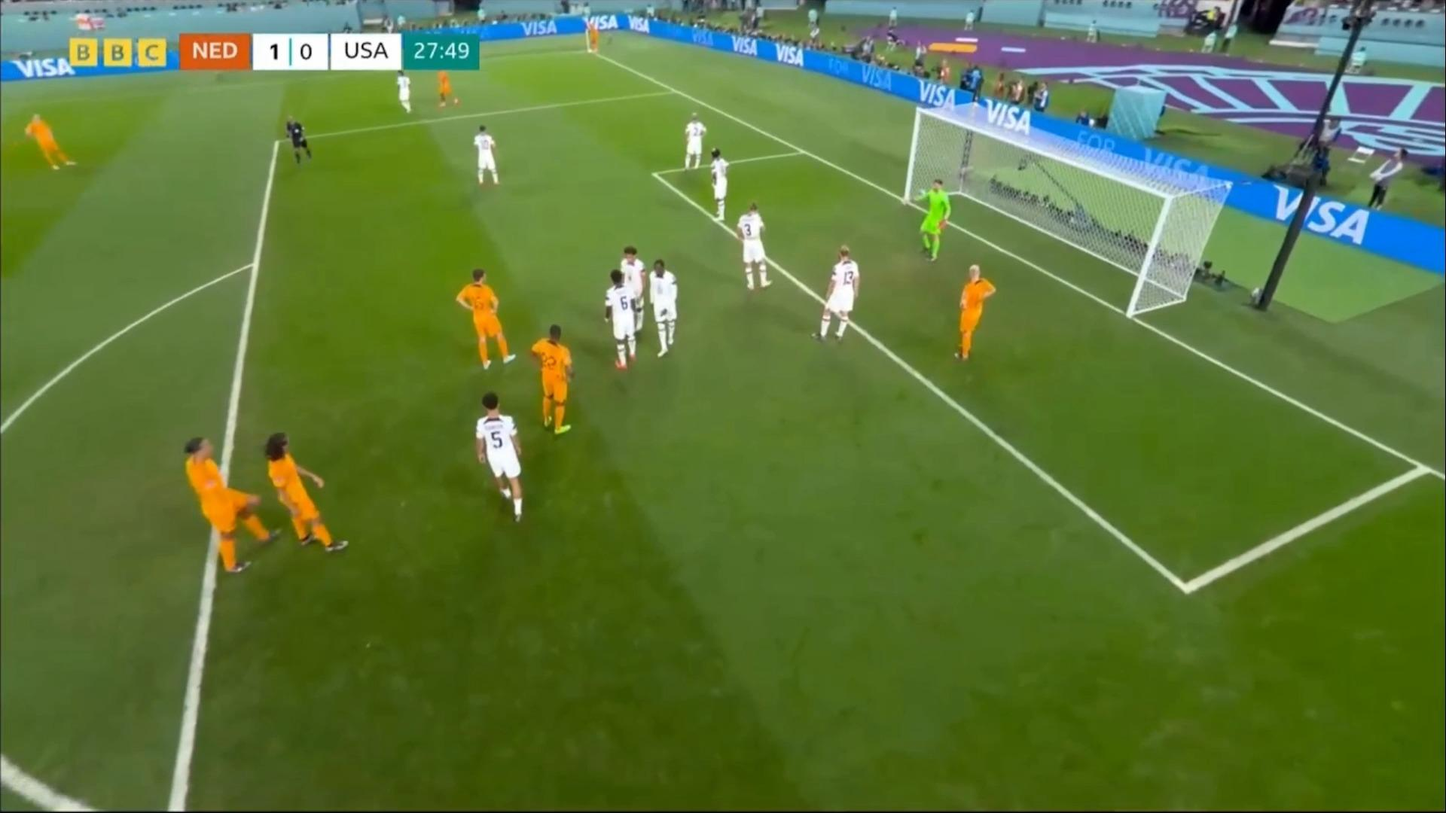Ball: (587, 49, 592, 54)
Player: (173, 434, 279, 574), (266, 431, 350, 556), (472, 393, 527, 525), (528, 326, 582, 439), (454, 270, 514, 365), (809, 246, 859, 346), (946, 263, 997, 356), (643, 258, 681, 364), (735, 200, 774, 294), (23, 112, 74, 174), (603, 268, 634, 368), (617, 245, 648, 335), (920, 179, 952, 264), (472, 124, 502, 194), (682, 111, 709, 174), (708, 149, 731, 220), (432, 69, 461, 107), (393, 68, 415, 114), (589, 22, 599, 54)
Ref: (287, 116, 313, 168)
